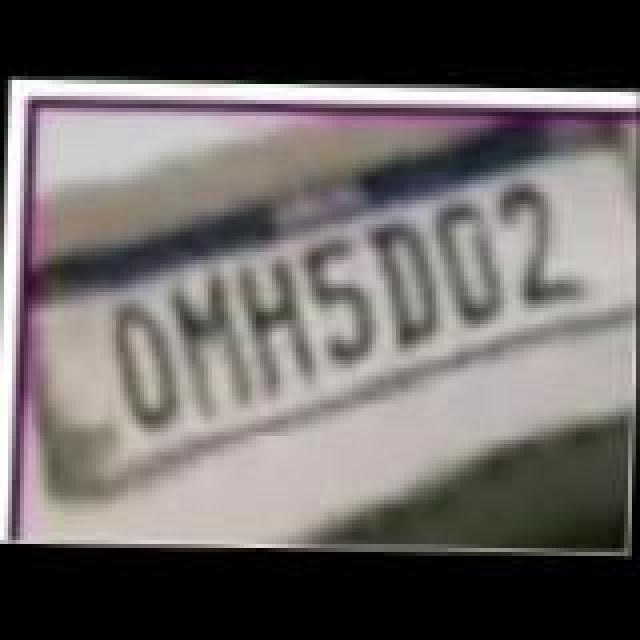2: (494, 186, 586, 314)
5: (296, 234, 380, 366)
D: (364, 220, 444, 352), (430, 200, 506, 328)
H: (234, 252, 322, 400)
M: (168, 268, 260, 416)
O: (108, 300, 188, 436)
